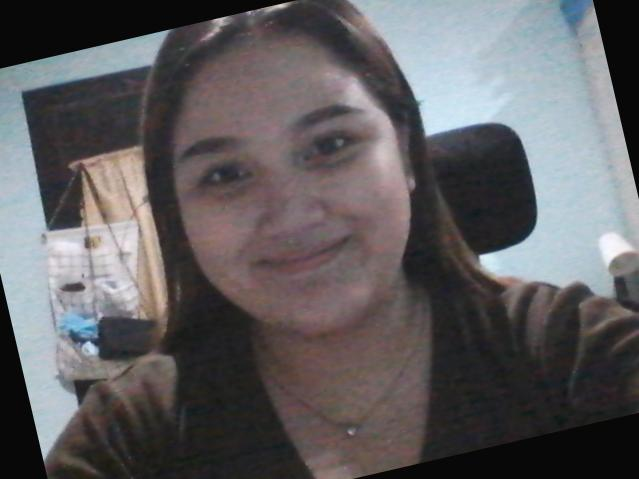senang: (137, 13, 443, 362)
